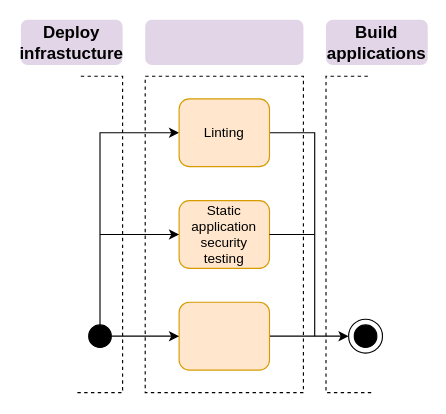
Image size: 446x414. Some labels were removed from this diagram. The box of each missing label's shape, as (x1, y1, x2, y2) in pixels:
Test applications: (145, 19, 303, 64)
Unit tests: (178, 301, 270, 370)
